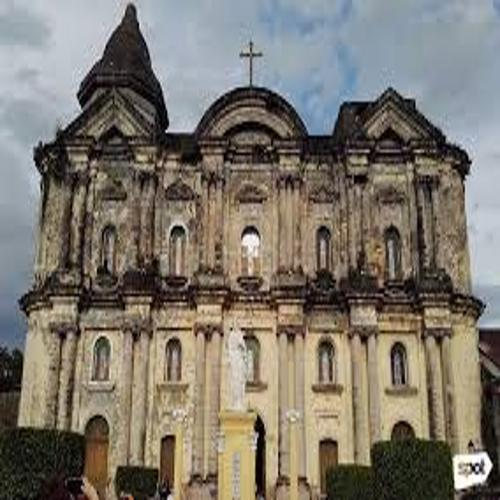Taal Basilica Church: (23, 3, 486, 494)
